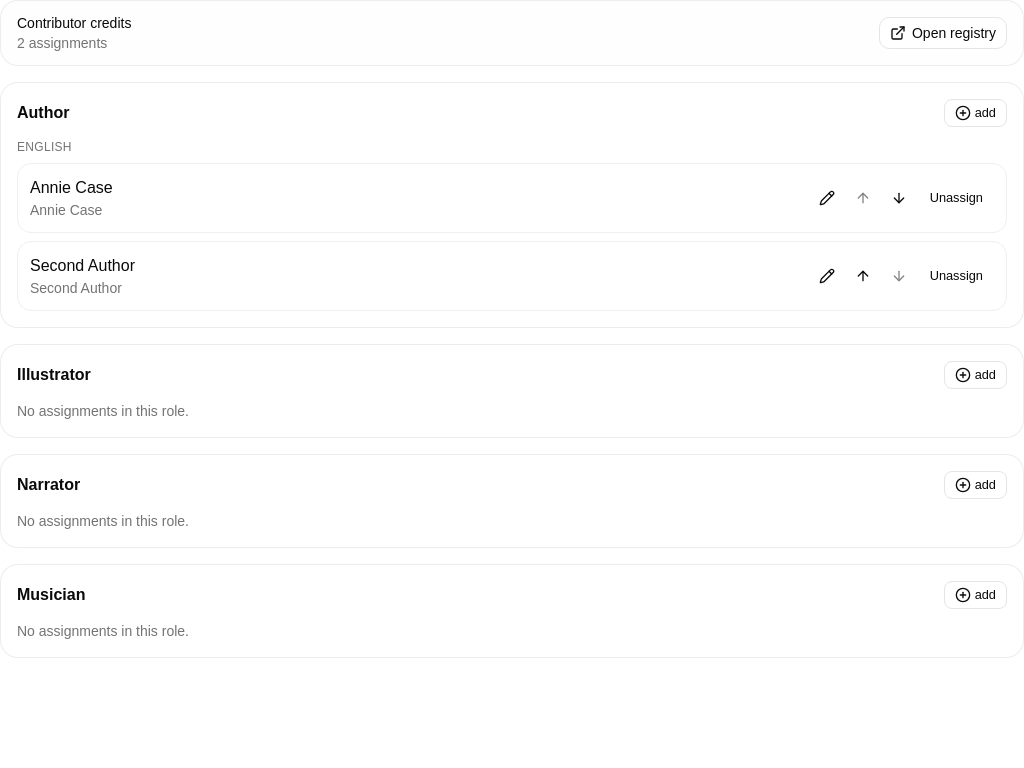
Test: ContentContributorPanel › restores the previous order and reports failed reorder
Click the 1st button named "move assignment down" at (899, 198), box [883, 182, 915, 214]
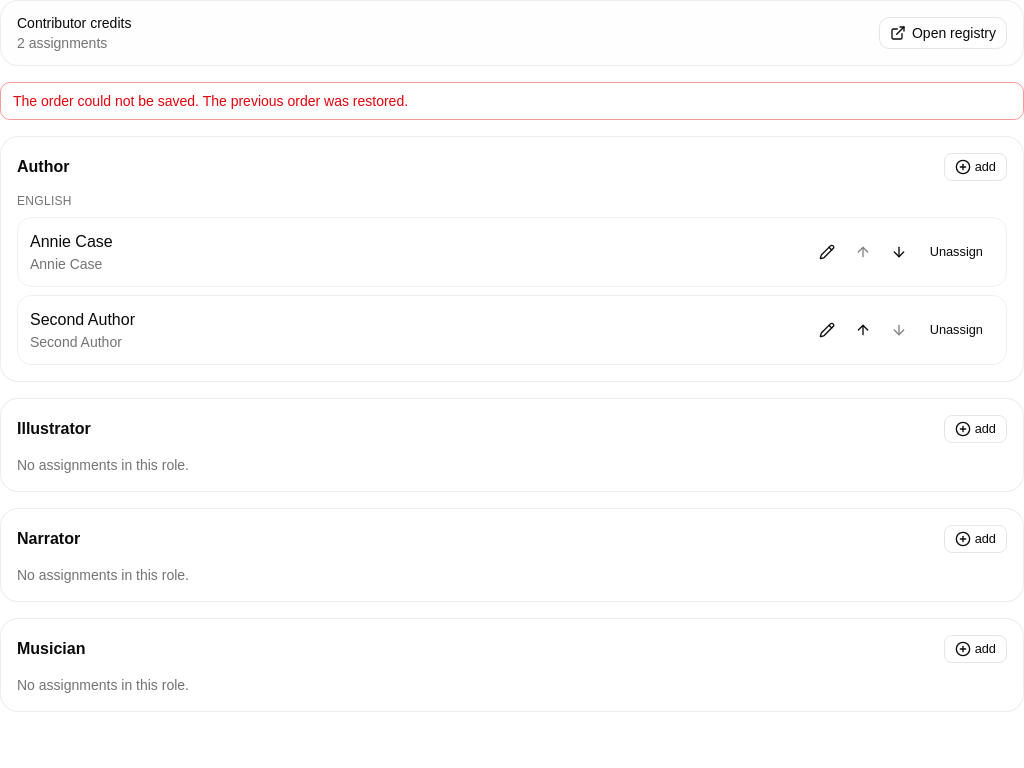
Check: the message shows "previous order was restored", box [13, 93, 408, 109]
